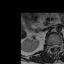CCS_normal: (54, 43, 56, 51)
LFS_normal: (57, 43, 60, 49)
LLS_normal: (56, 43, 57, 50)
RFS_normal: (50, 43, 52, 49)
RLS_normal: (52, 43, 54, 49)
